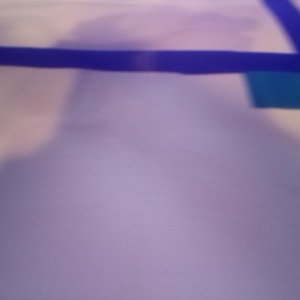top_left: (1, 192, 175, 300)
